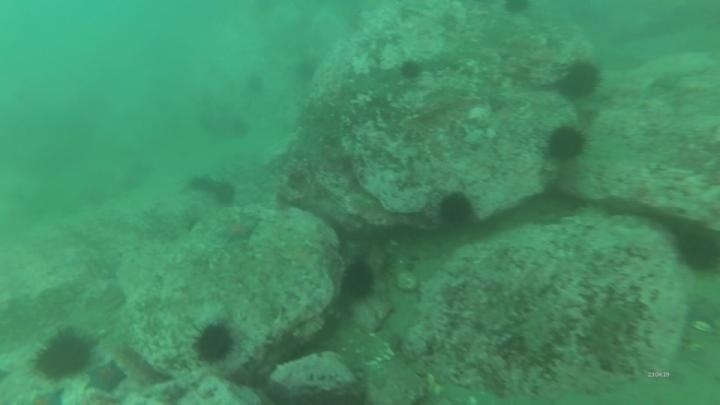echinus: (31, 327, 96, 382), (673, 226, 720, 276), (557, 58, 603, 102), (191, 321, 236, 365), (544, 123, 589, 163), (339, 259, 378, 302), (436, 191, 476, 228), (292, 55, 320, 85), (186, 173, 219, 198), (210, 179, 238, 207), (397, 57, 425, 83), (243, 71, 267, 96), (501, 1, 533, 18)
holothurian: (582, 299, 644, 374)
starfish: (629, 49, 713, 93), (83, 358, 129, 395), (280, 241, 322, 274), (684, 293, 720, 330), (216, 216, 259, 245), (31, 385, 68, 405)
